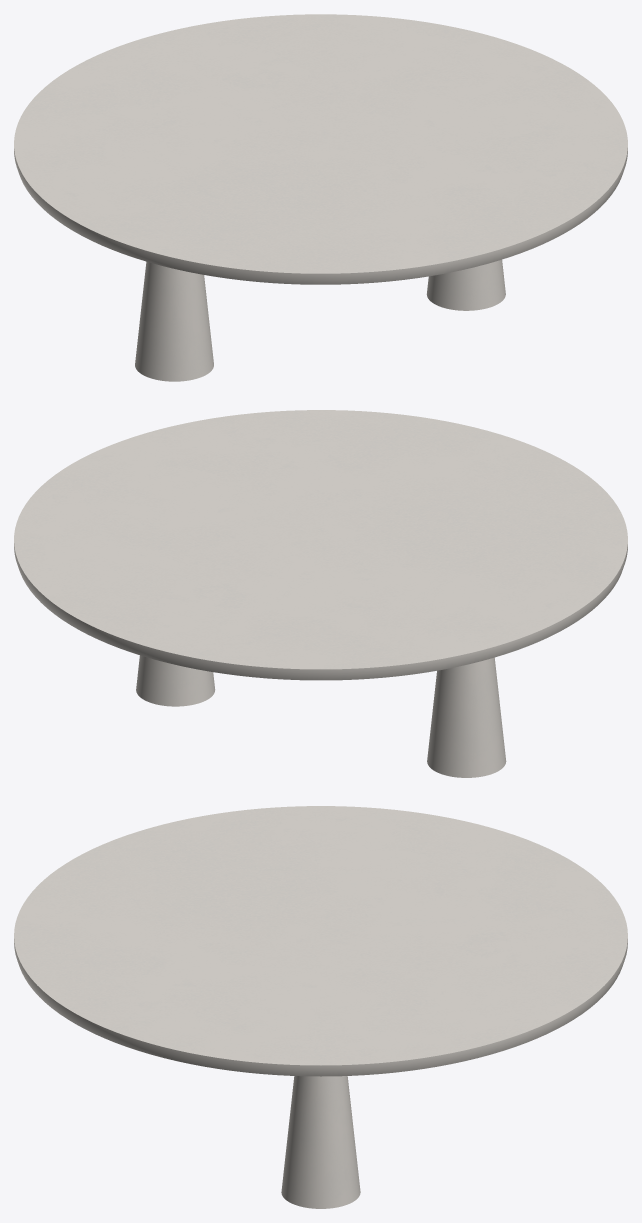
Rendered from pearlwhite_round_facet_pebble.glb.
3 views of the same model, one above another, from view 1: azimuth 30°, elevation 25°; view 2: azimuth 150°, elevation 25°; view 3: azimuth 270°, elevation 25° (orthographic).
Parts seen in each view (by area): view 1: tabletop_round_facet.006, tableleg_pebble.016; view 2: tabletop_round_facet.006, tableleg_pebble.016; view 3: tabletop_round_facet.006, tableleg_pebble.016.
Boxes of the visible parts, bbox=[...] form: tabletop_round_facet.006: bbox=[14, 14, 627, 284]; tableleg_pebble.016: bbox=[135, 259, 505, 381]; tabletop_round_facet.006: bbox=[14, 410, 627, 680]; tableleg_pebble.016: bbox=[136, 655, 506, 777]; tabletop_round_facet.006: bbox=[14, 806, 627, 1076]; tableleg_pebble.016: bbox=[281, 1076, 360, 1208].
Bounding box in the file's own units: 7.5 × 2.5 × 7.5.
1 material, 1 textured.
